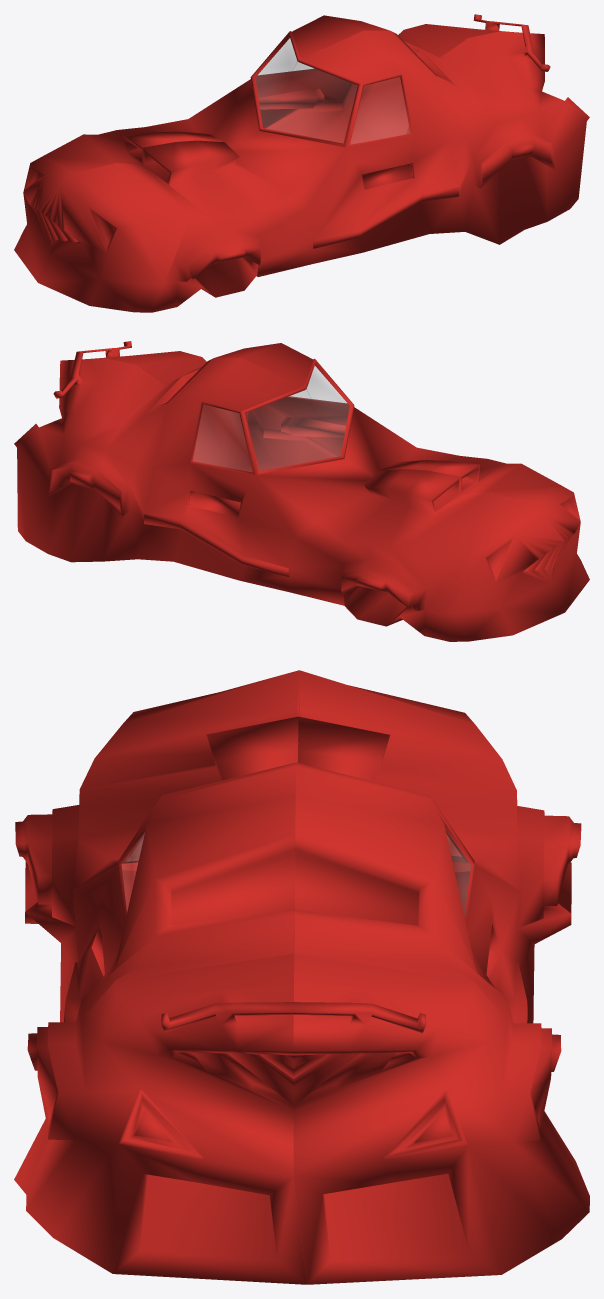
The model's file is race_car.fbx.
3 views of the same model, one above another, from view 1: azimuth 30°, elevation 25°; view 2: azimuth 150°, elevation 25°; view 3: azimuth 270°, elevation 25° (orthographic). The views are drawn at different scales.
Parts seen in each view (by area): view 1: araba:Cube1; view 2: araba:Cube1; view 3: araba:Cube1.
Part boxes in pixels (x1,y1,x2,y2): araba:Cube1: (14,14,589,312); araba:Cube1: (14,341,589,641); araba:Cube1: (14,670,589,1284).
Size of the model in its own units: 420 by 138 by 221.
